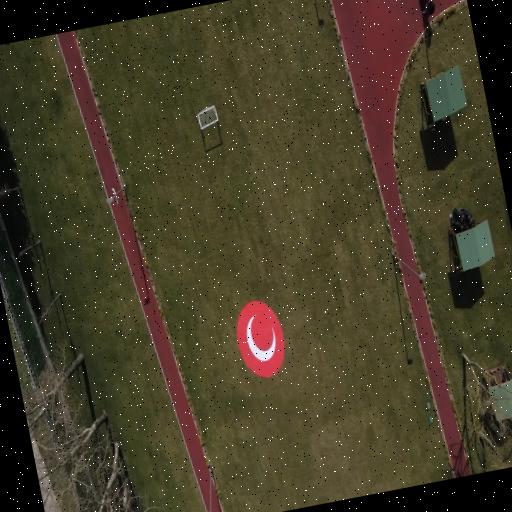UAI: (237, 301, 285, 377)
person: (458, 471, 462, 477)
